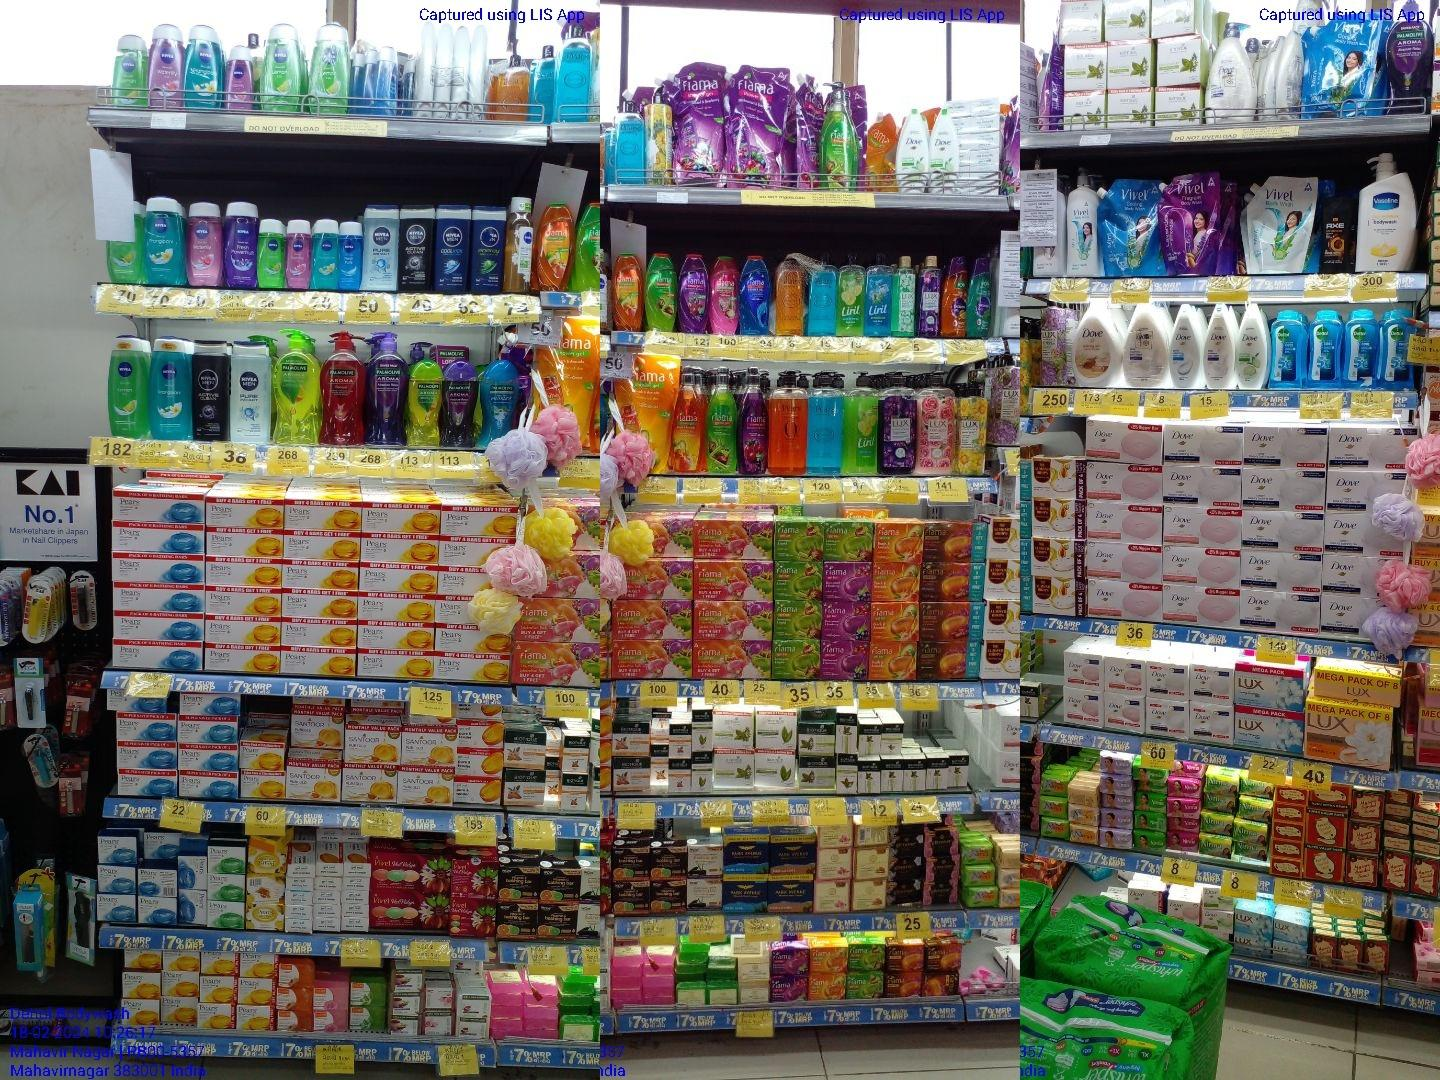Dettol_Bodywash_Cool: (1270, 310, 1305, 388), (1344, 310, 1377, 390), (1381, 309, 1411, 391), (1311, 309, 1341, 388)
Dove_Deep_Moisture_Body_Wash_250ML: (1203, 303, 1235, 390)
Dove_Gentle_Exfoliating_Body_Wash_250ML: (1170, 303, 1200, 389)
Dove_Refreshing_Body_Wash_250ML: (1237, 302, 1265, 389)
Fiama_Shower_Gel_Lemongrass_and_Jojoba_250ML: (645, 252, 676, 330)
Fiama_Shower_Gel_Patchouli_and_Macadamia_250ML: (709, 254, 739, 335)
Fiama_Shower_Gel_Peach_and_Avocado_250ML: (535, 203, 570, 289), (611, 252, 644, 329)
Joy_Shower_Gel_Mandarin_and_Lemongrass_250ML: (941, 254, 966, 337)
Joy_Shower_Gel_Mint_and_Eucalyptus_250ML: (967, 252, 990, 337)
Liril_Cooling_Mint_Body_Wash_250ML: (866, 252, 891, 337)
Liril_Lime_and_Tea_Tree_Oil_Body_Wash_250ML: (838, 250, 863, 337)
Lux_Black_Orchid_Scent_and_Juniper_Oil_Body_Wash_245ML: (917, 254, 939, 338)
Lux_Body_Wash_Skin_Detox_Freesia_Scent_and_Alove_Vera_245ML: (893, 253, 916, 336)
Nivea_Shower_Gel_Frangipani_and_Oil_250ML: (150, 335, 190, 438), (143, 195, 184, 285), (185, 24, 220, 104)
Nivea_Shower_Gel_Fresh_Powerfruit_250ML: (226, 202, 256, 289)
Nivea_Shower_Gel_Lemon_and_Oil_250ML: (107, 330, 149, 434), (306, 22, 349, 112), (263, 24, 298, 111)
Nivea_Shower_Gel_Waterlily_and_Oil_250ML: (186, 203, 223, 287), (147, 25, 181, 110)
Palmolive_Aroma_Moments_Feel_The_Massage_Shower_Gel_250ML: (482, 357, 517, 434)
Palmolive_Aroma_Morning_Tonic_Shower_Gel_250ML: (408, 361, 439, 446)
Palmolive_Aroma_Relax_250ML: (441, 360, 475, 447)
Pears_Pure_Glycerin_and_Mint_Extracts_Body_Wash_250ML: (557, 20, 590, 120), (808, 254, 839, 336)
